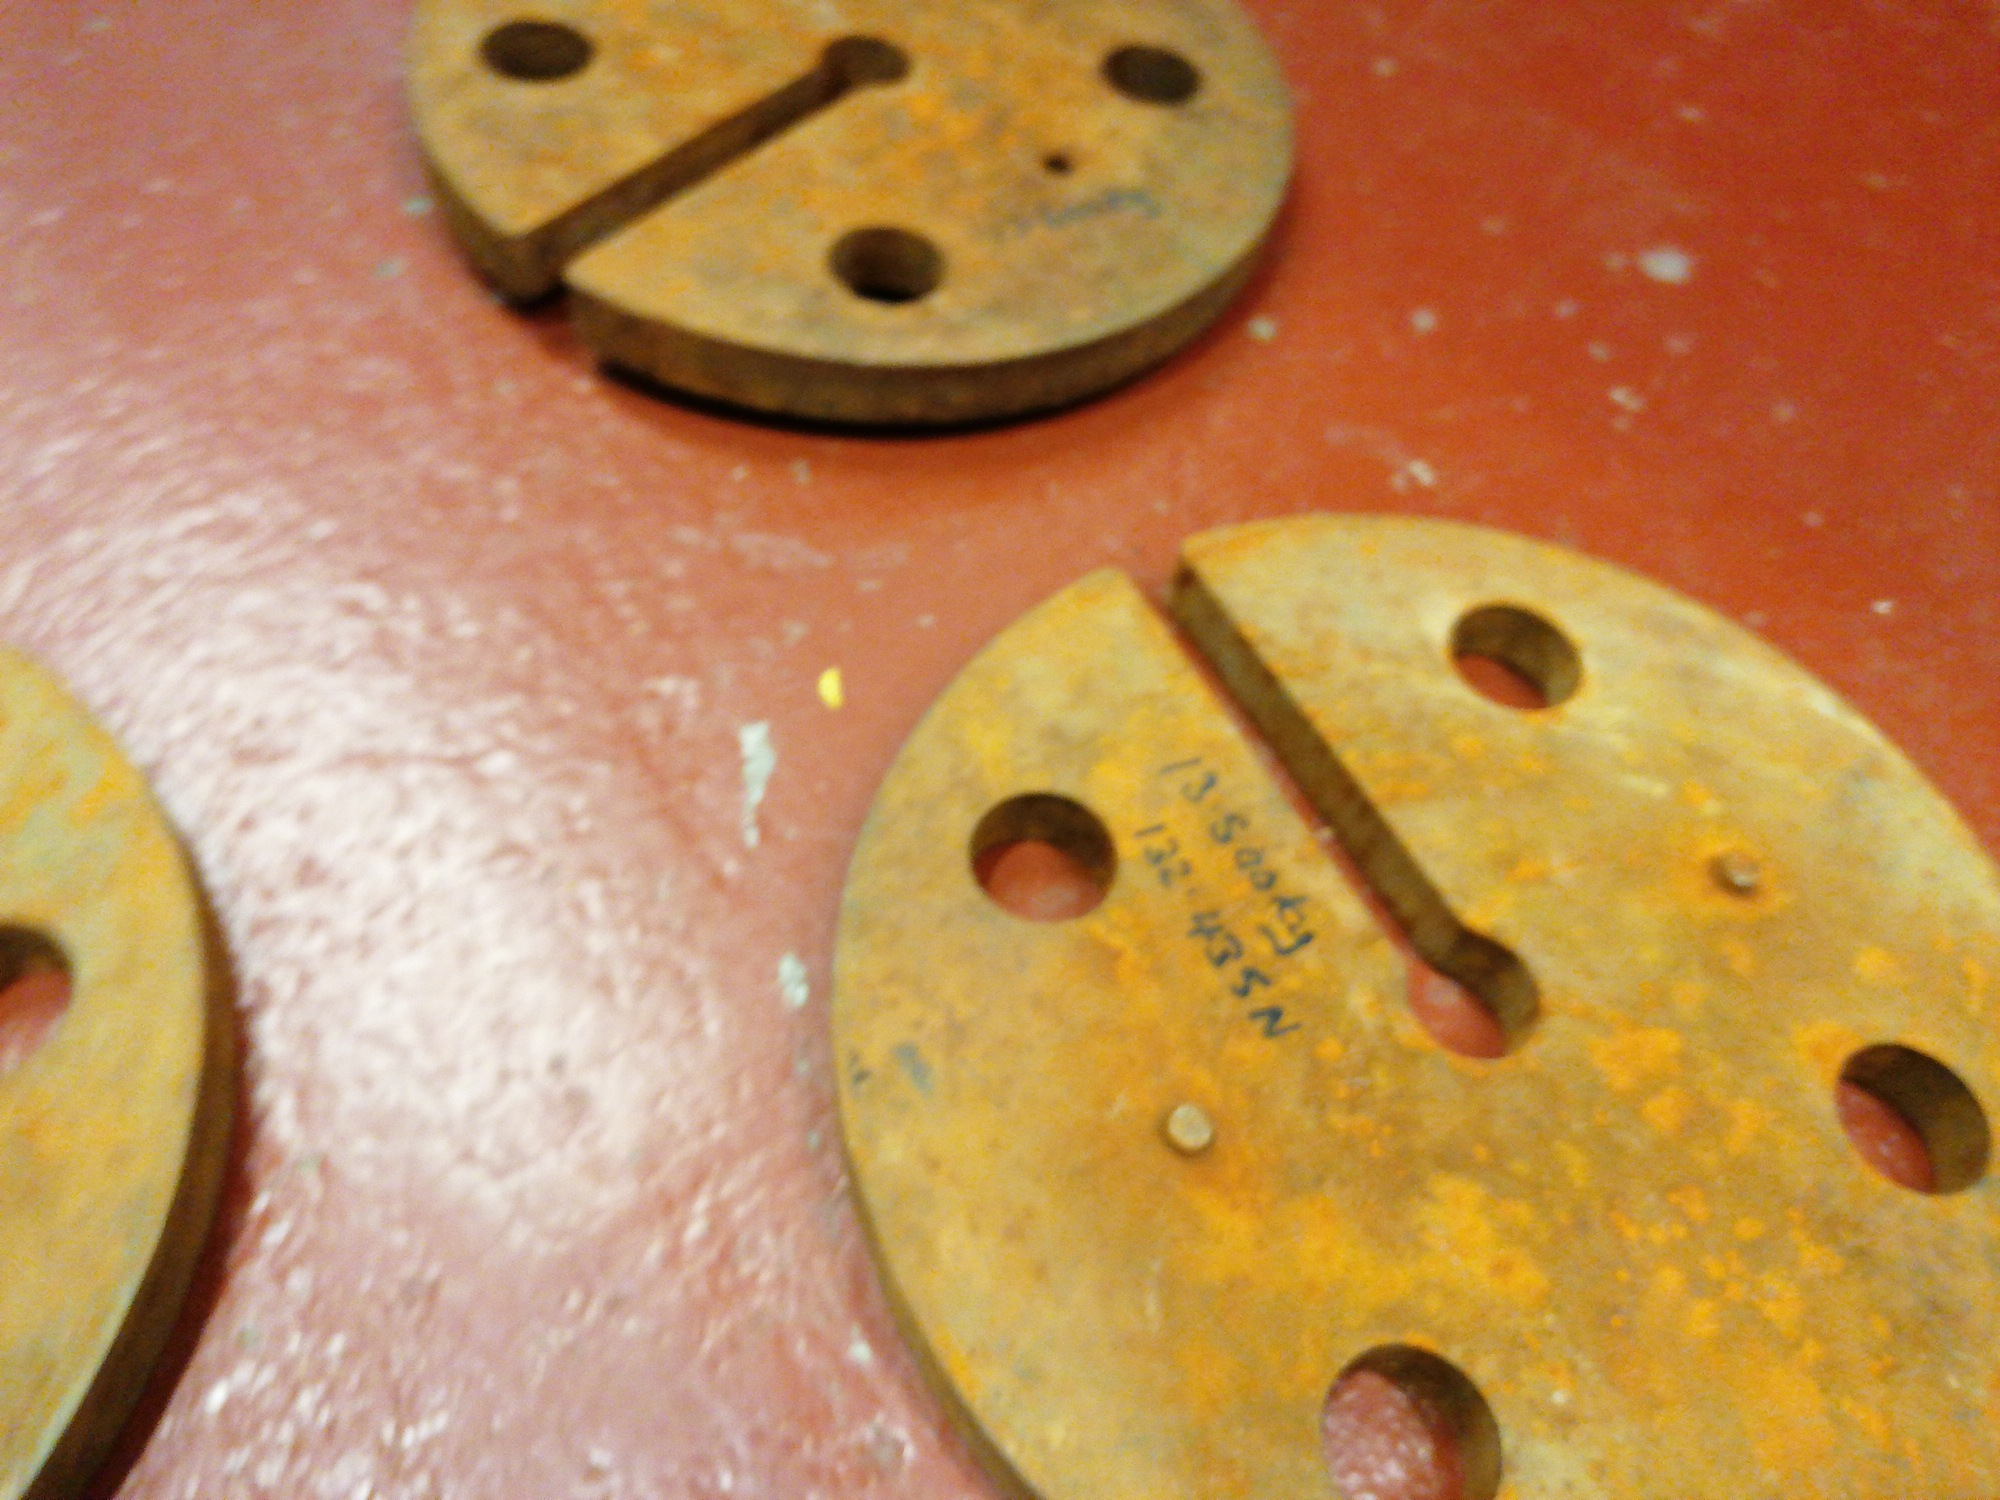flange: (822, 507, 2000, 1500), (402, 2, 1302, 425), (3, 633, 246, 1495)
